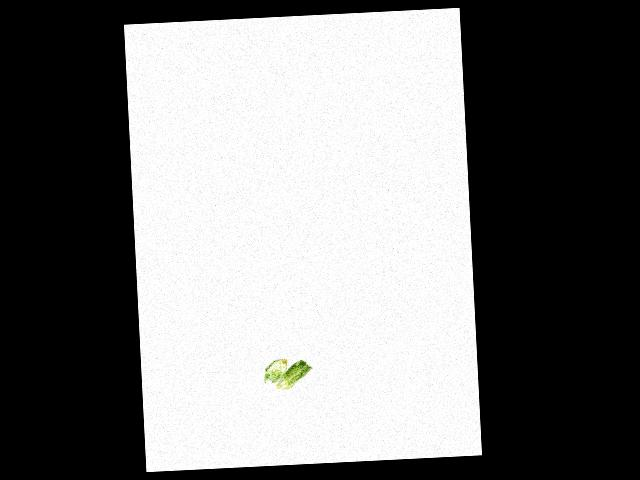lettuce: (261, 351, 311, 392)
